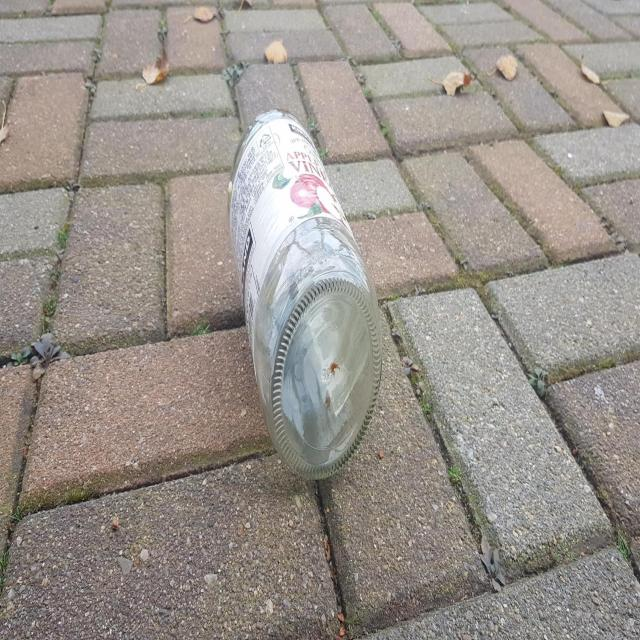glass: (229, 110, 382, 478)
